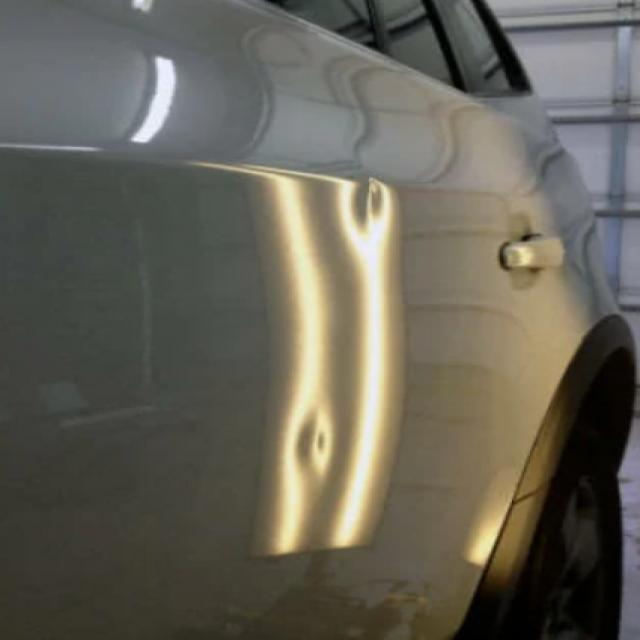dents: (281, 401, 379, 494)
